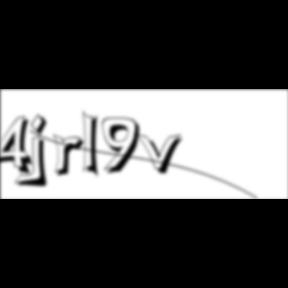4: (1, 115, 40, 179)
9: (102, 117, 148, 177)
j: (28, 113, 54, 191)
l: (83, 108, 106, 182)
r: (53, 134, 91, 180)
v: (135, 131, 189, 177)
